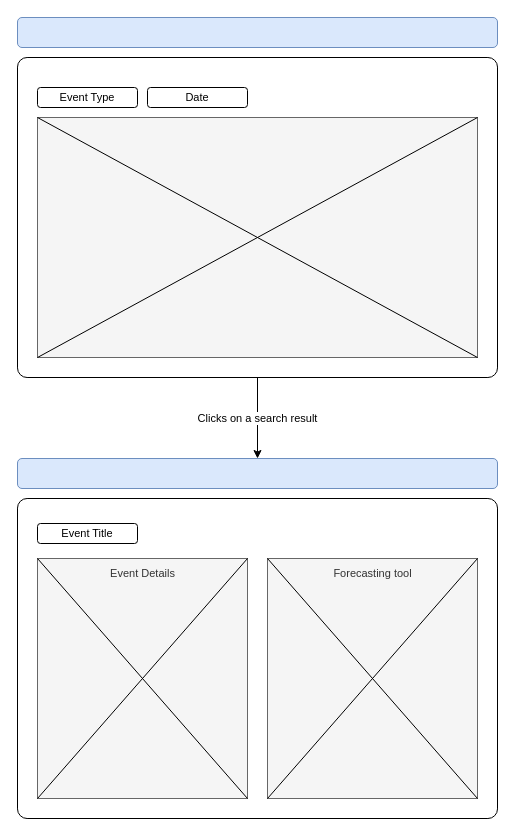
The diagram is 515 pixels wide and 836 high, and some of its shapes have lost their labels. The centre of each missing label's shape, as x and y in pixels:
Details page - supply chain forecasting: [257,473]
Home page - recommender system: [257,32]
